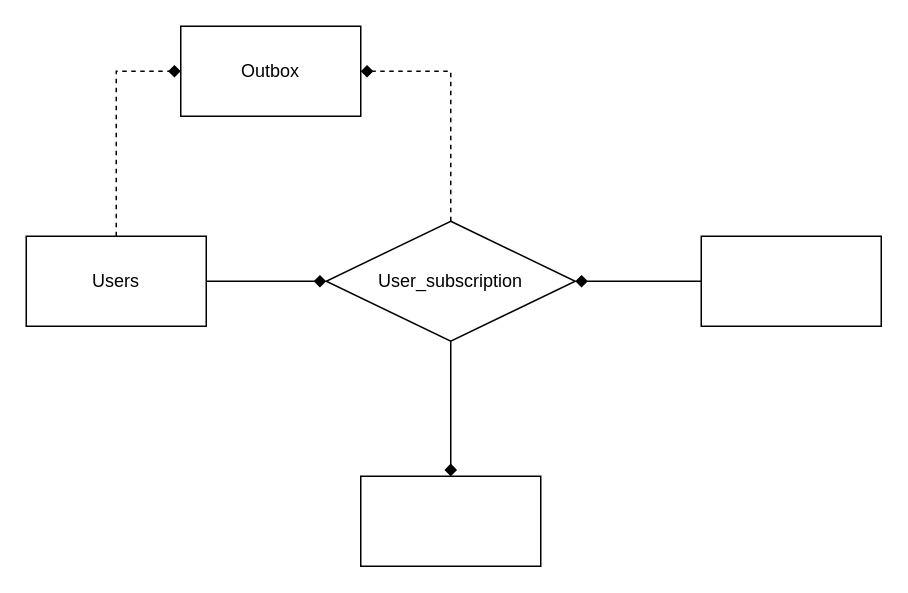
Image size: 908x593. Some labels were removed from this diagram. Each missing label, with the centre of its shape:
Newsletter: point (790, 280)
Opt_in: point (450, 520)
